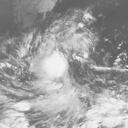cyclone: (12, 28, 81, 99)
